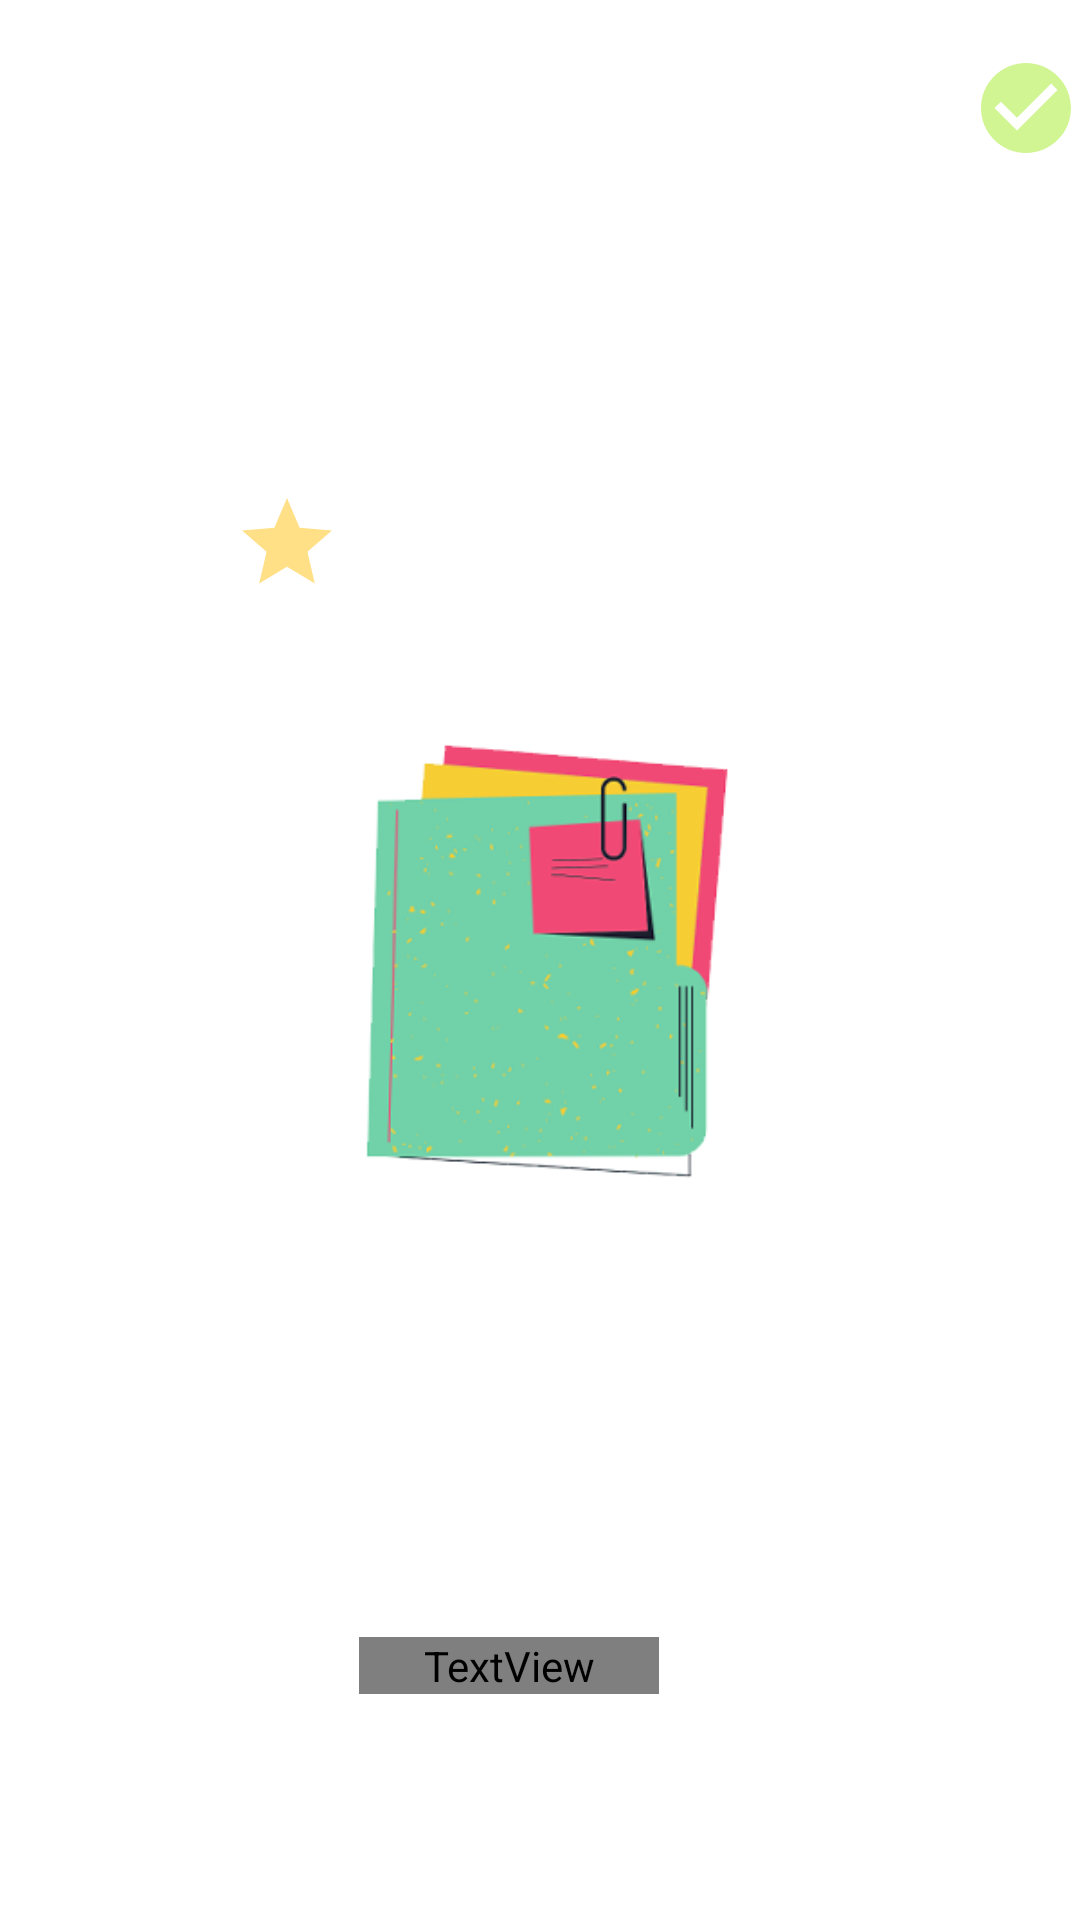

Point at icon controls on the screen. Image size 1080 × 1920, points as (x=x, y=y).
check circle: (x=1026, y=108)
star: (x=287, y=540)
